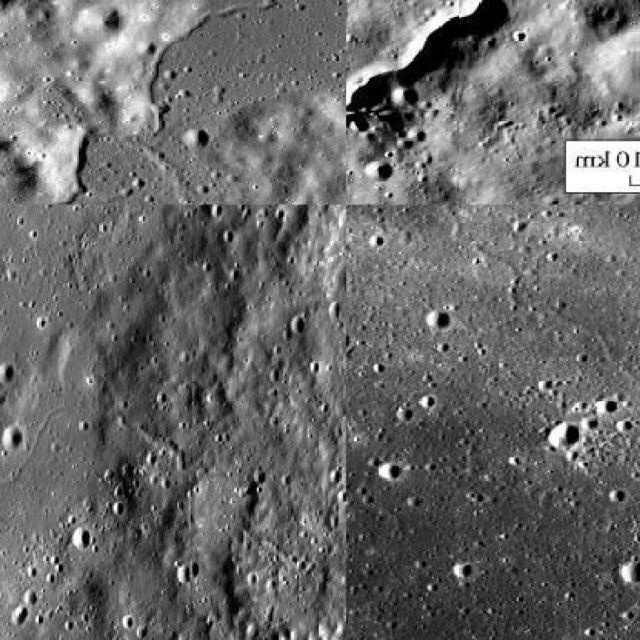crater: (435, 205, 640, 520), (142, 0, 346, 203), (348, 0, 570, 118), (1, 386, 87, 488), (2, 137, 93, 203)
